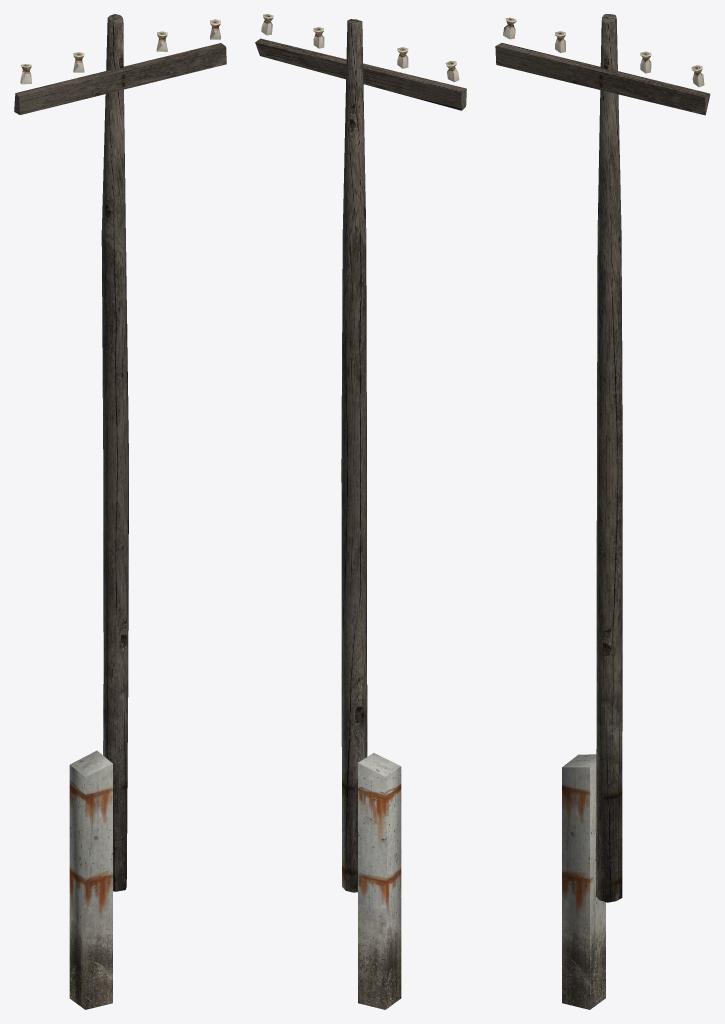
File: stolb2.FBX
3 views of the same model, side by side, from view 1: azimuth 30°, elevation 25°; view 2: azimuth 150°, elevation 25°; view 3: azimuth 330°, elevation 25° (orthographic).
Visible parts, largest first — view 1: stolb2; view 2: stolb2; view 3: stolb2.
Boxes of the visible parts, box(x1,y1,x2,y2) form: stolb2: box(14, 14, 226, 1009); stolb2: box(255, 14, 466, 1009); stolb2: box(495, 14, 710, 1009).
Bounding box in the file's own units: 70.16 × 316 × 9.9.
